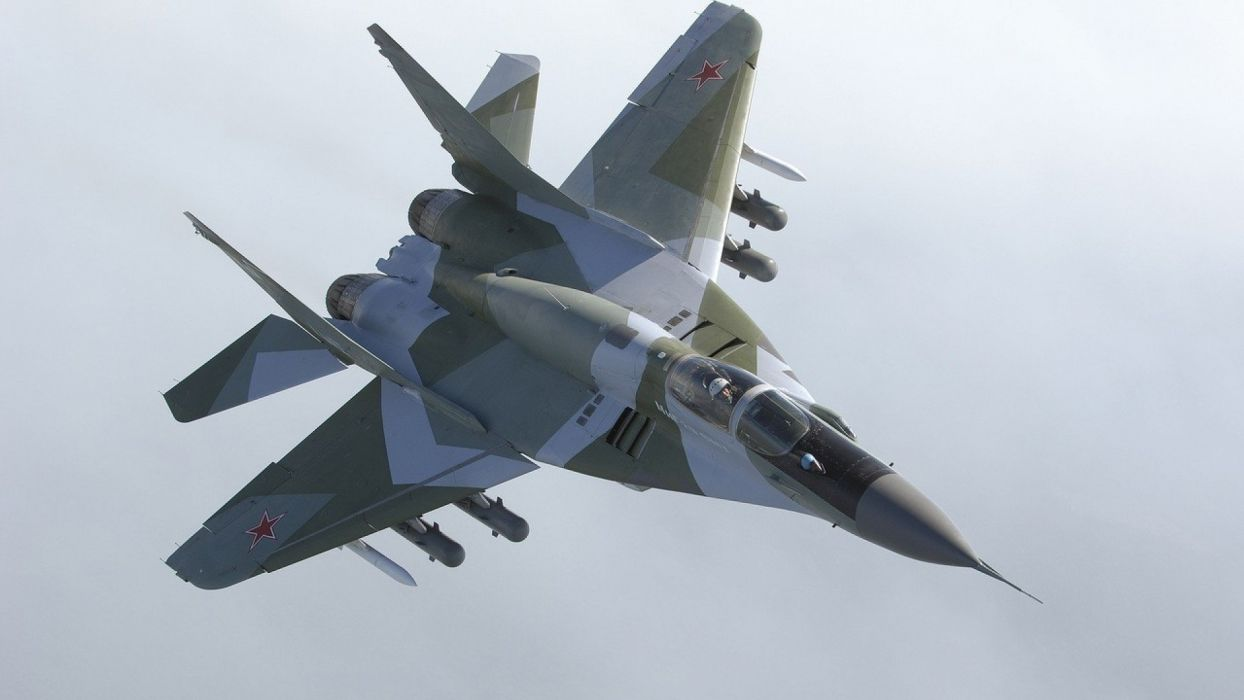Mig-29: (160, 10, 1093, 655)
